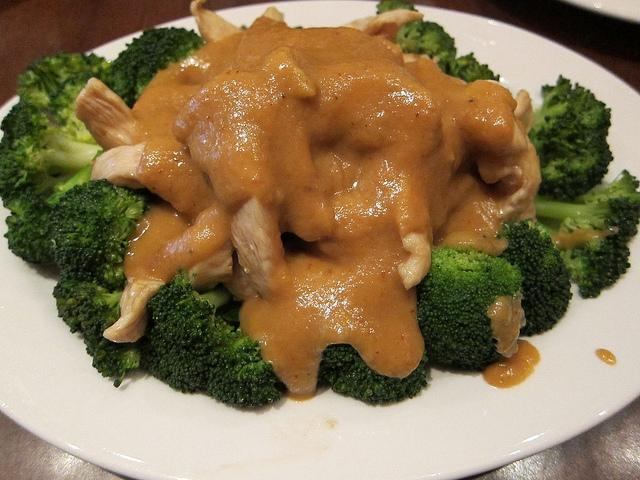broccoli: (138, 270, 286, 408), (416, 245, 524, 372), (534, 169, 640, 288), (44, 179, 150, 293), (1, 101, 104, 215), (528, 73, 614, 202), (53, 279, 148, 387), (497, 218, 573, 337), (15, 50, 110, 142), (100, 27, 204, 109), (318, 342, 430, 406), (394, 19, 458, 77), (458, 62, 501, 83), (376, 0, 420, 15)
